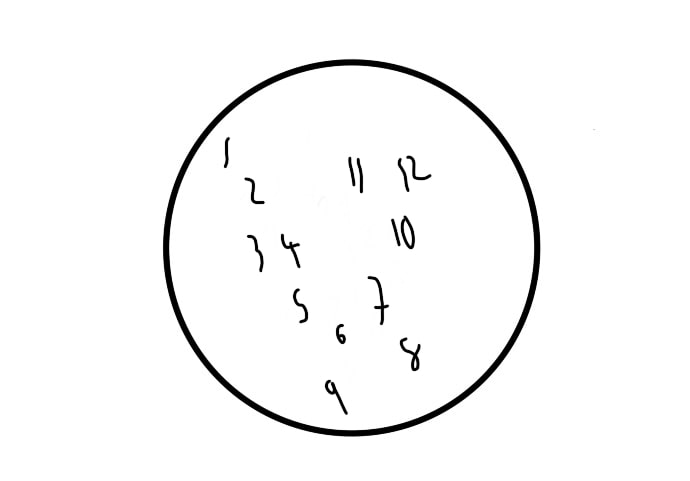eight: (398, 331, 422, 374)
eleven: (343, 155, 366, 193)
five: (291, 285, 310, 325)
four: (278, 229, 302, 269)
nine: (322, 372, 351, 418)
one: (221, 133, 233, 171)
seven: (362, 272, 390, 327)
six: (334, 318, 351, 351)
ten: (386, 212, 418, 251)
three: (246, 229, 266, 274)
twelve: (395, 150, 432, 197)
two: (243, 175, 267, 205)
